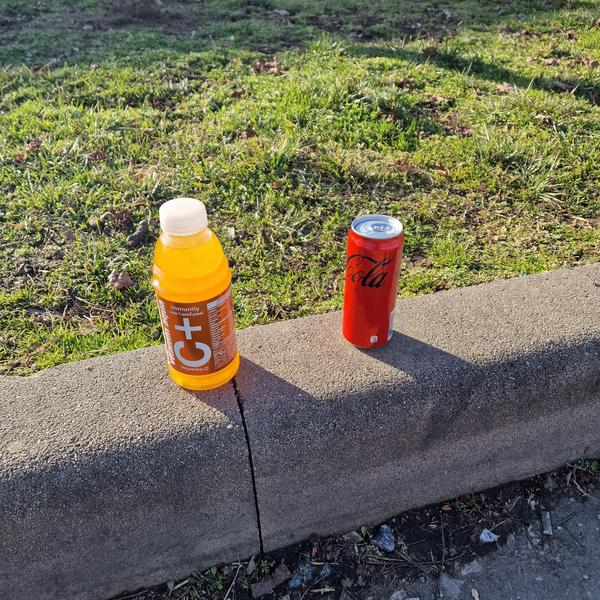can: (332, 208, 410, 356)
plastic_bottle: (140, 191, 248, 396)
